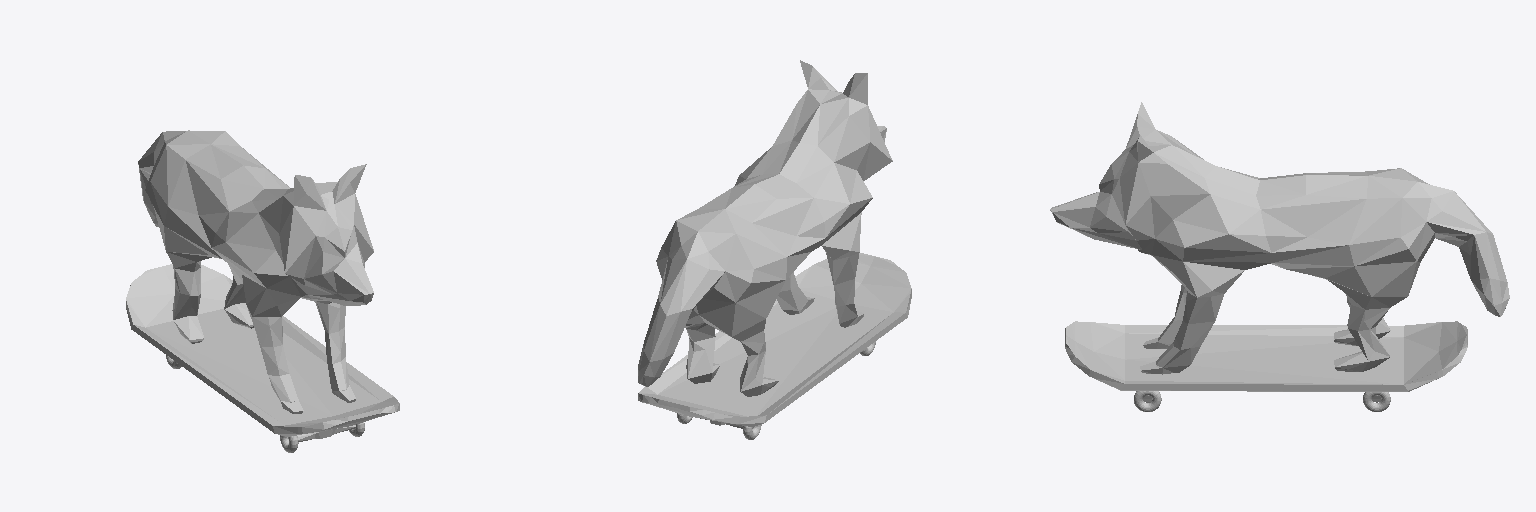
Rendered from Fuchs27.obj.
3 renders of one model, left to right at view 1: azimuth 30°, elevation 25°; view 2: azimuth 150°, elevation 25°; view 3: azimuth 270°, elevation 25°, orthographic.
Size of the model in its own units: 3.58 by 7.88 by 11.75.